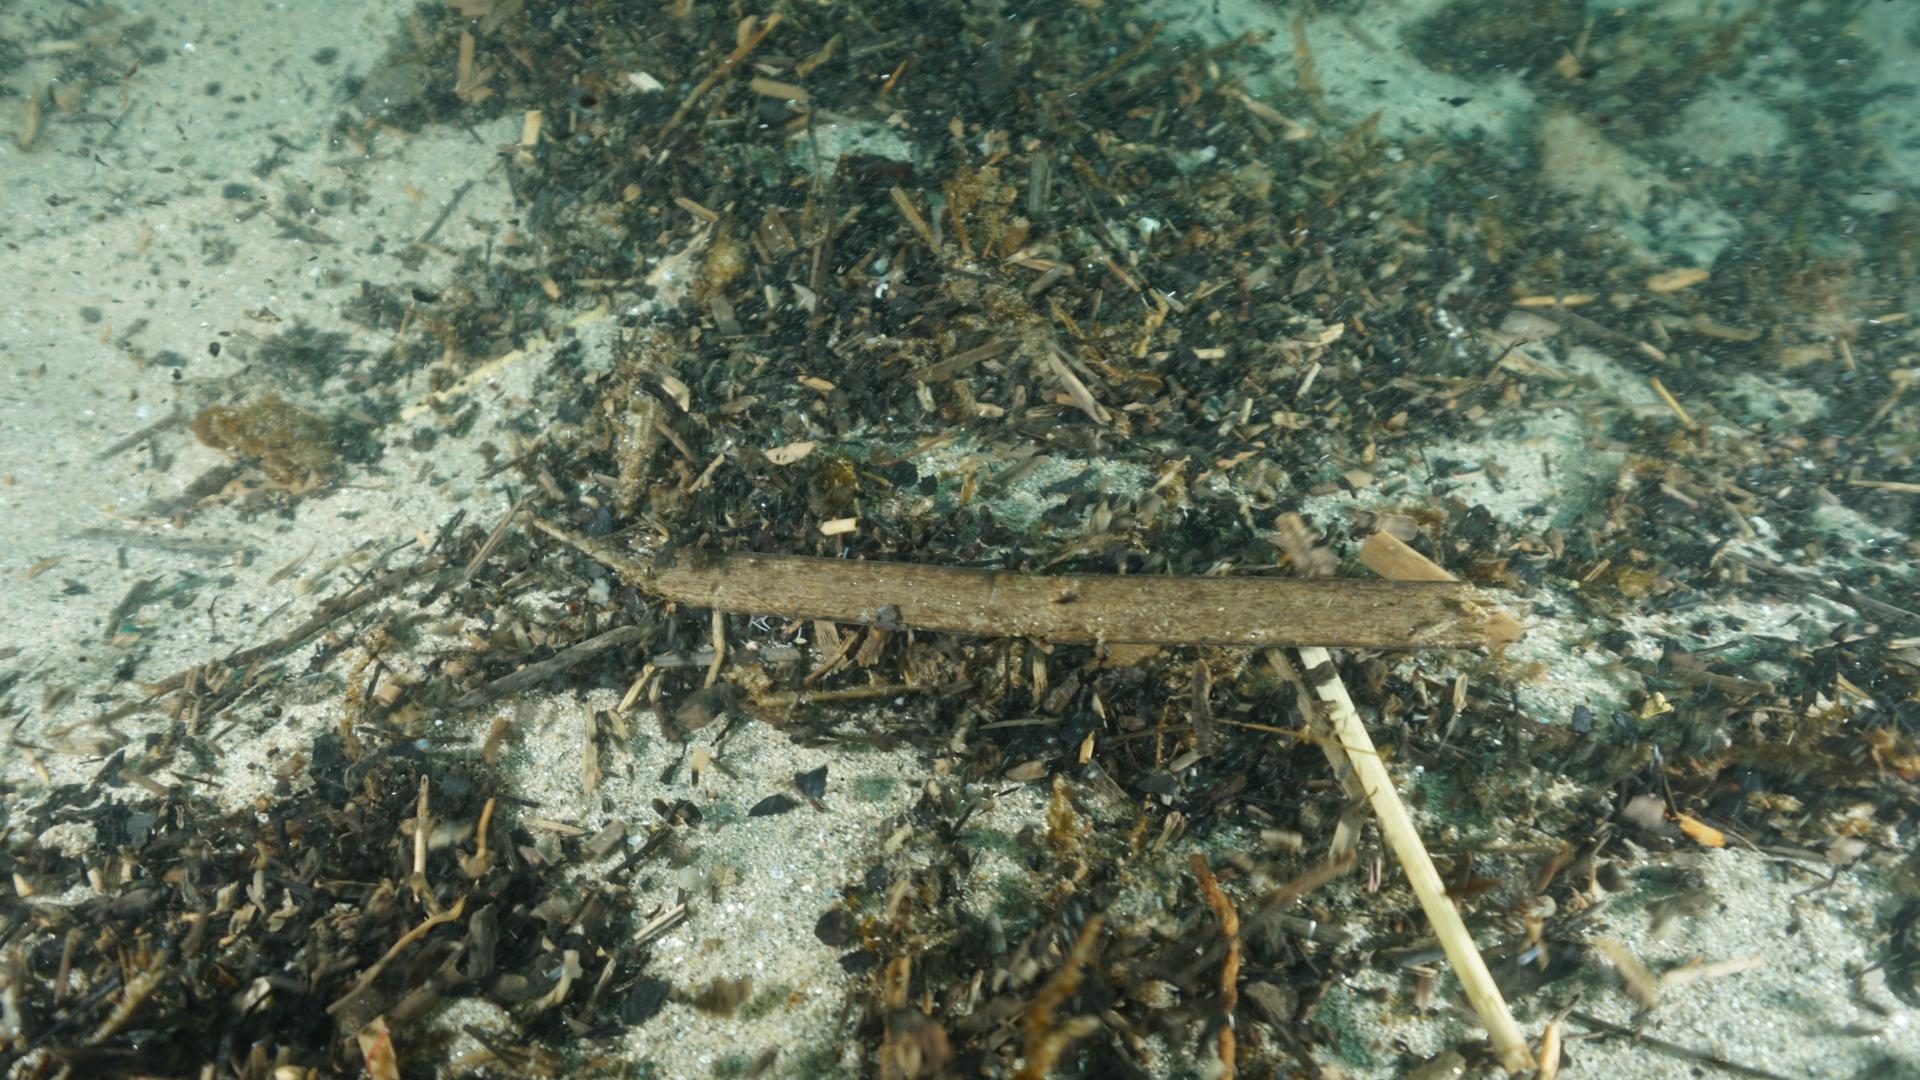wood: (535, 516, 1526, 653)
